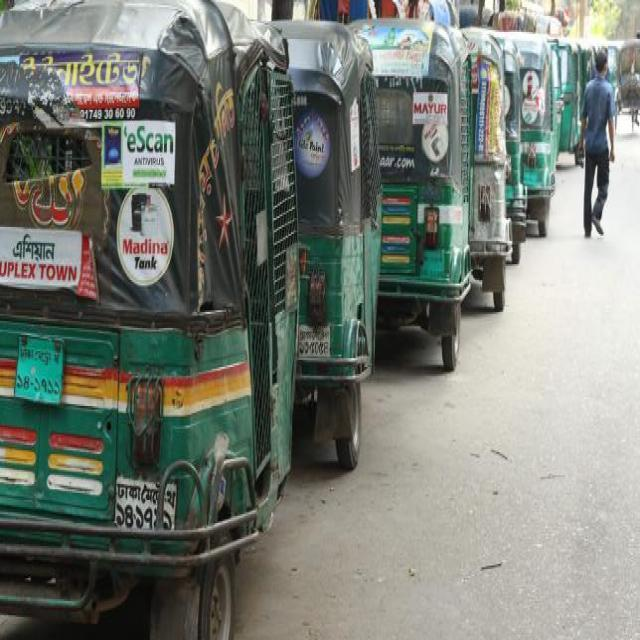CNG: (1, 14, 303, 640), (250, 12, 385, 485), (362, 1, 484, 386)
